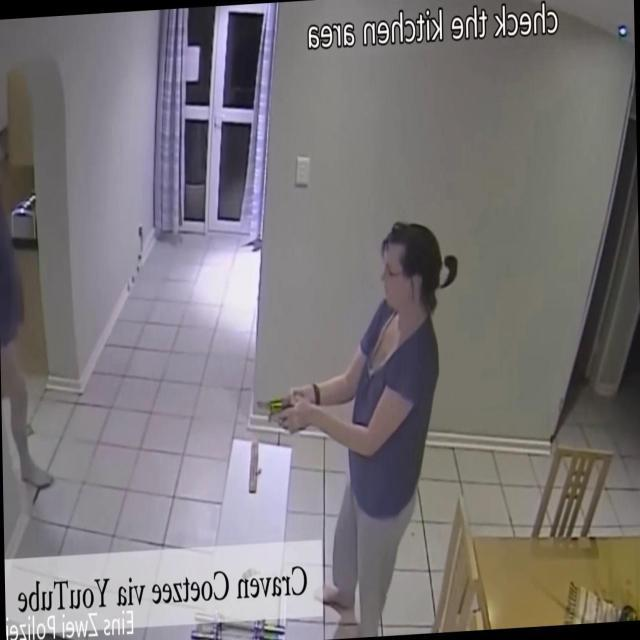pistol: (253, 391, 304, 434)
